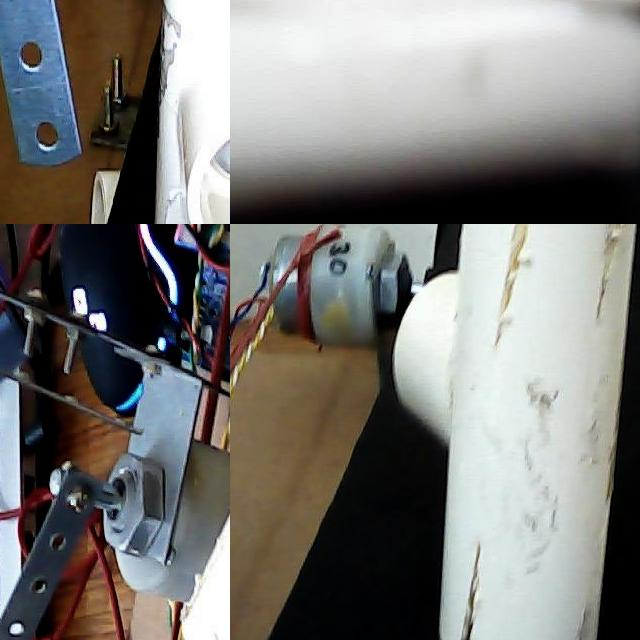Defective: (516, 382, 624, 584), (162, 88, 230, 224), (451, 531, 510, 640), (502, 224, 539, 381), (515, 0, 640, 45), (596, 224, 631, 338), (570, 590, 602, 640), (160, 0, 170, 152), (230, 0, 260, 33)
T Joint: (392, 224, 639, 640)
